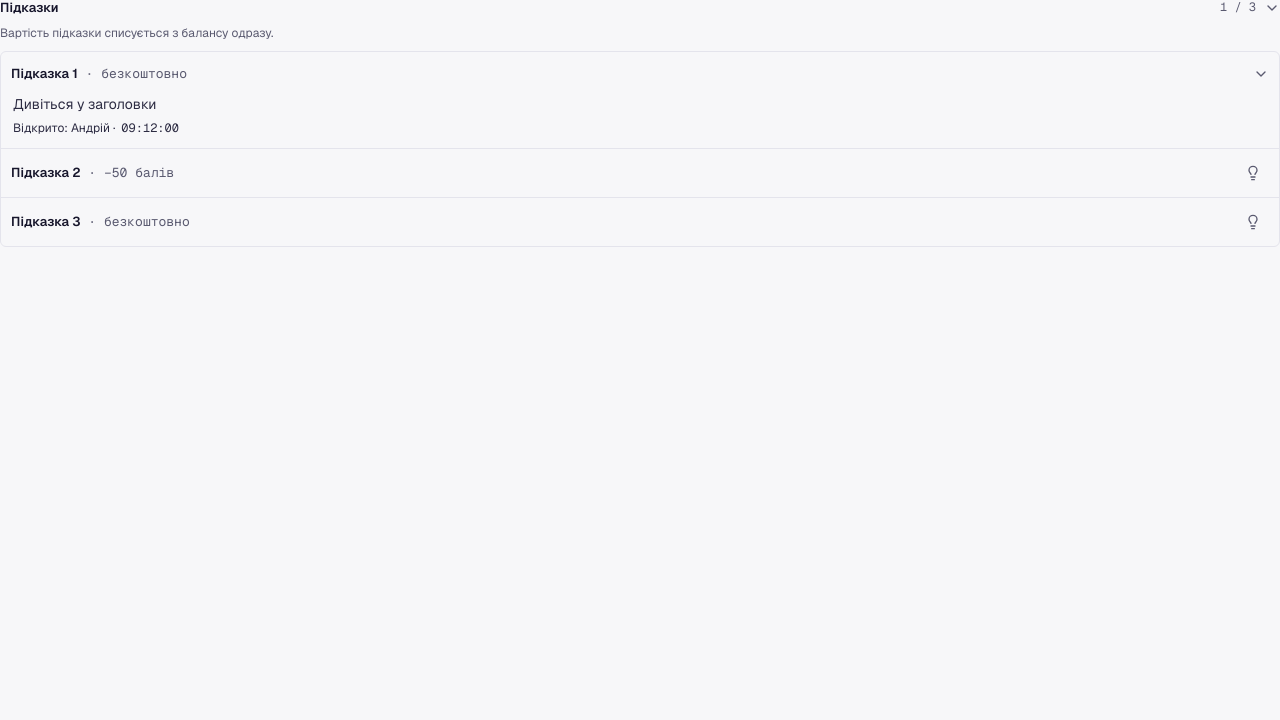
it: hint confirmation uses actual participation mode (team=true)
The image size is (1280, 720).
What coordinates should you click on to do the following:
click the button named "Відкрити підказку"
I would click on:
 (1253, 173)
Its box is [1237,157,1269,189].
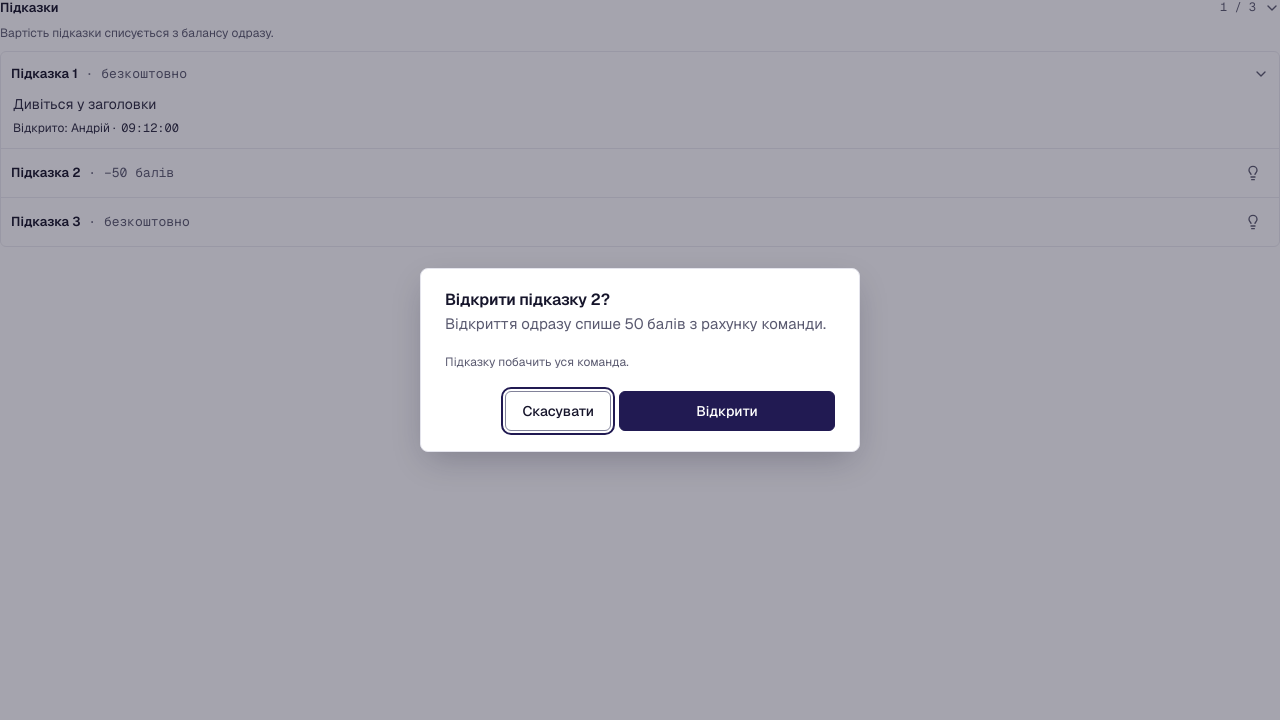
Now the text "Відкриття одразу спише 50 балів з рахунку команди." is shown, box [445,314,835,335]
